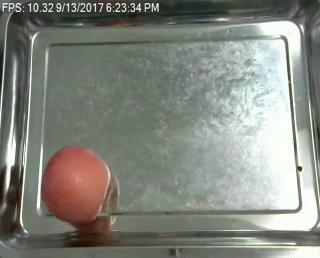apple: (41, 145, 109, 224)
